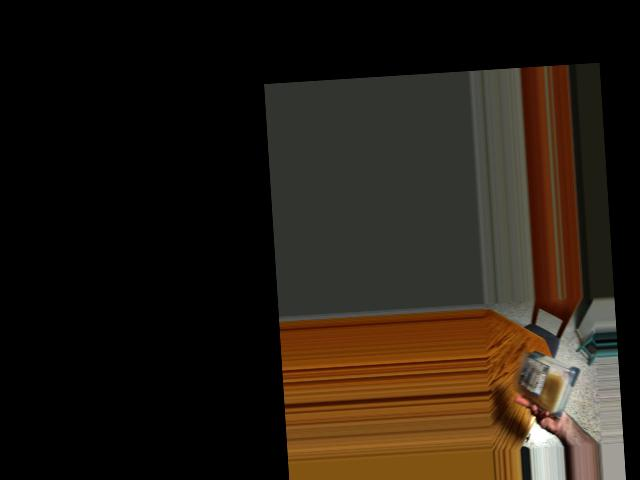cheese: (518, 343, 578, 418)
